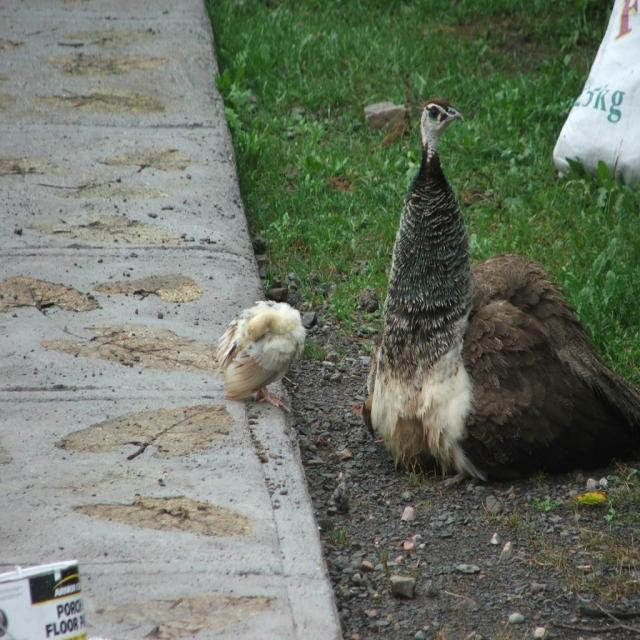Chicken: (216, 298, 320, 404)
